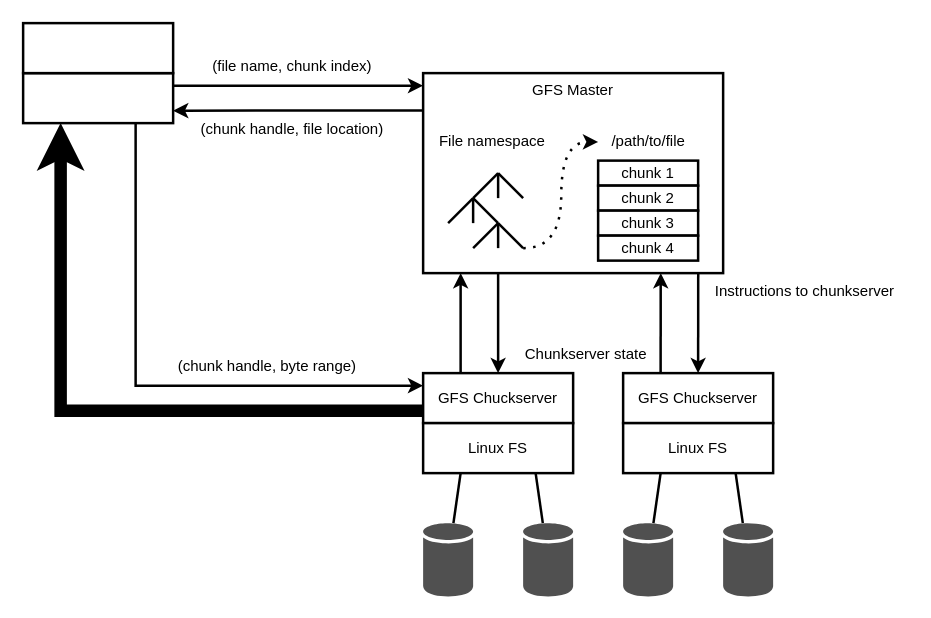
This 931x618 diagram has some shape labels left out. Each missing label, with the centre of its shape:
"Application" belongs at (x=97, y=47).
"GFS Клиент" belongs at (x=97, y=97).
